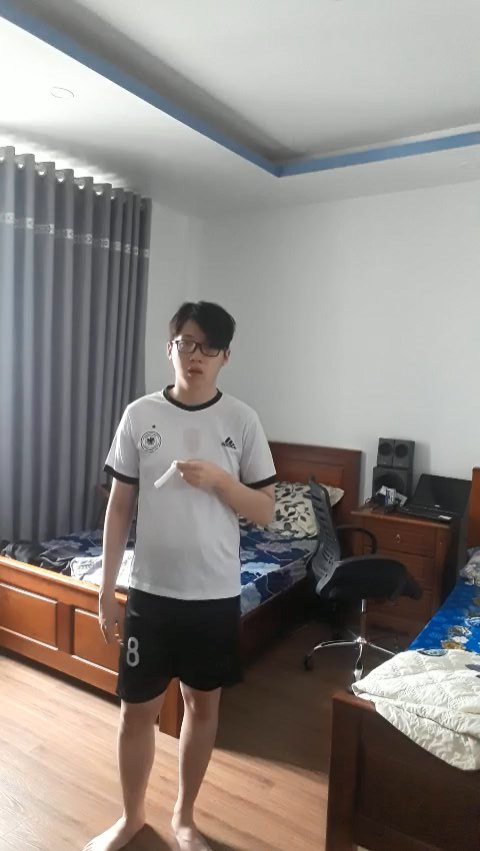cigarette: (149, 458, 176, 488)
person: (55, 278, 287, 851)
